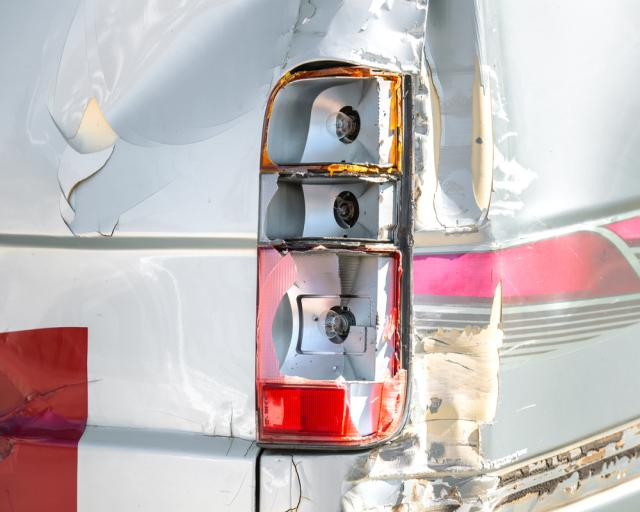dent: (80, 0, 429, 216), (343, 332, 497, 512), (416, 0, 492, 228)
lamp broken: (256, 57, 413, 449)
scratch: (479, 60, 546, 224)
